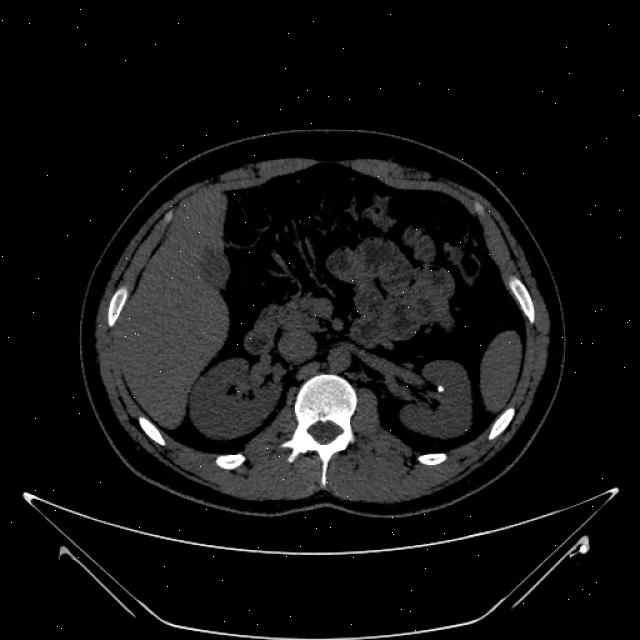kidneystone: (438, 385, 444, 392)
